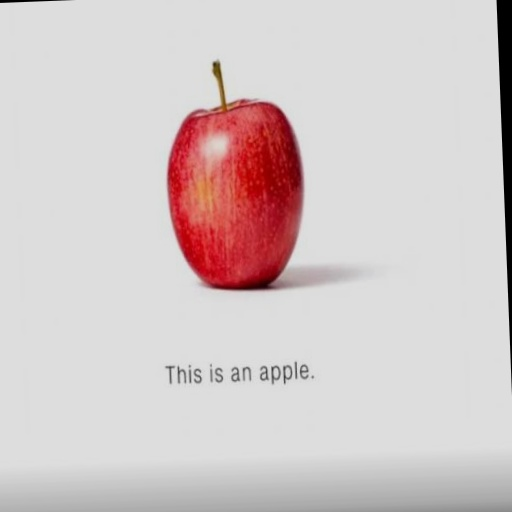fruit: (168, 62, 303, 288)
